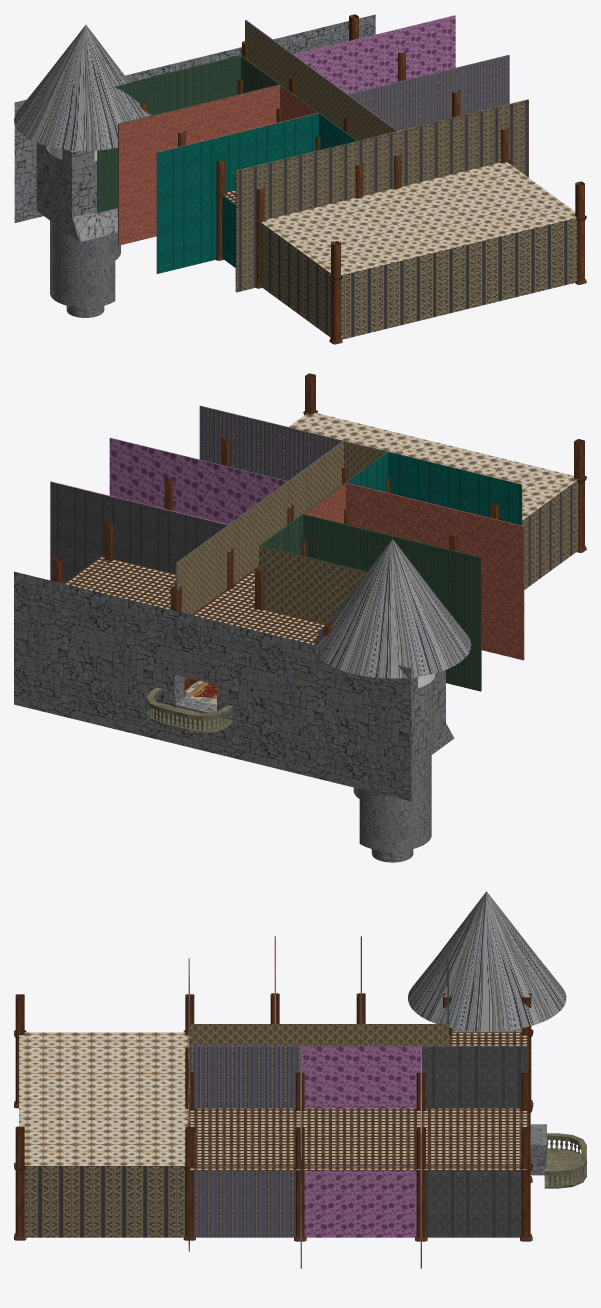
Rendered from castle_inside_scene_lvl_2.fbx.
3 renders of one model, top to bottom at view 1: azimuth 30°, elevation 25°; view 2: azimuth 150°, elevation 25°; view 3: azimuth 270°, elevation 25°, orthographic. The views are drawn at different scales.
Visible parts, largest first — view 1: Cube.018, Cube.007, Cylinder.001, Cube.013, Cube.009, Cube.023, Cube.001, Cube.008, Cube.005, Cube.004, Cube.003, Cube.032 (+1 smaller); view 2: Cube.018, Cylinder.001, Cube.007, Cube.013, Cube.001, Cube.009, Cube.008, Cube.005, Cube.023, Plane.001, Cube.004, Cube (+1 smaller); view 3: Cube.018, Plane.001, Cube.005, Cylinder.001, Cube.023, Cube.037, Cube.003, Cube, Cube.040, Cube.039, Cube.038, Cube.002 (+2 smaller).
Part boxes in pixels (x1,y1,x2,y2): Cube.018: (14, 14, 577, 339); Cube.007: (235, 99, 528, 292); Cylinder.001: (14, 25, 151, 307); Cube.013: (156, 113, 318, 273); Cube.009: (118, 84, 279, 245); Cube.023: (97, 55, 357, 212); Cube.001: (293, 15, 455, 93); Cube.008: (348, 55, 509, 130); Cube.005: (245, 20, 397, 140); Cube.004: (329, 241, 342, 344); Cube.003: (573, 181, 586, 284); Cube.032: (215, 159, 226, 260); Cube.018: (14, 413, 578, 801); Cylinder.001: (314, 539, 471, 851); Cube.007: (199, 405, 522, 525); Cube.013: (345, 483, 524, 660); Cube.001: (50, 481, 227, 583); Cube.009: (303, 514, 481, 691); Cube.008: (109, 438, 287, 524); Cube.005: (175, 440, 343, 677); Cube.023: (259, 451, 388, 623); Plane.001: (64, 556, 326, 644); Cube.004: (572, 439, 586, 552); Cube: (147, 702, 233, 733); Cube.018: (19, 1028, 546, 1237); Plane.001: (190, 1032, 528, 1170); Cube.005: (189, 1045, 527, 1108); Cylinder.001: (408, 891, 566, 1031); Cube.023: (189, 955, 448, 1045); Cube.037: (520, 1127, 532, 1241); Cube.003: (14, 1126, 26, 1240); Cube: (544, 1148, 586, 1188); Cube.040: (415, 1127, 427, 1241); Cube.039: (294, 1127, 306, 1241); Cube.038: (183, 1126, 195, 1240); Cube.002: (544, 1133, 586, 1175).
Bounding box in the file's own units: 1306 × 887 × 1451.
